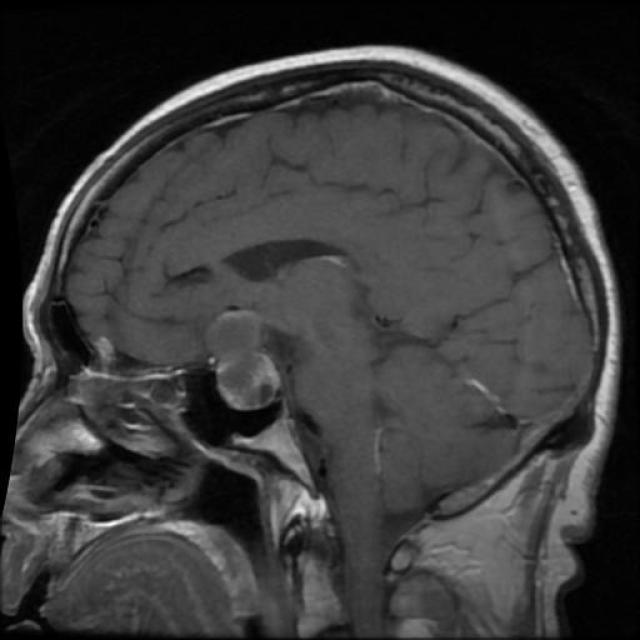pituitary: (196, 308, 308, 418)
